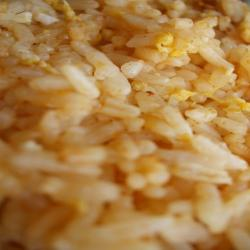rice: (19, 18, 230, 230)
